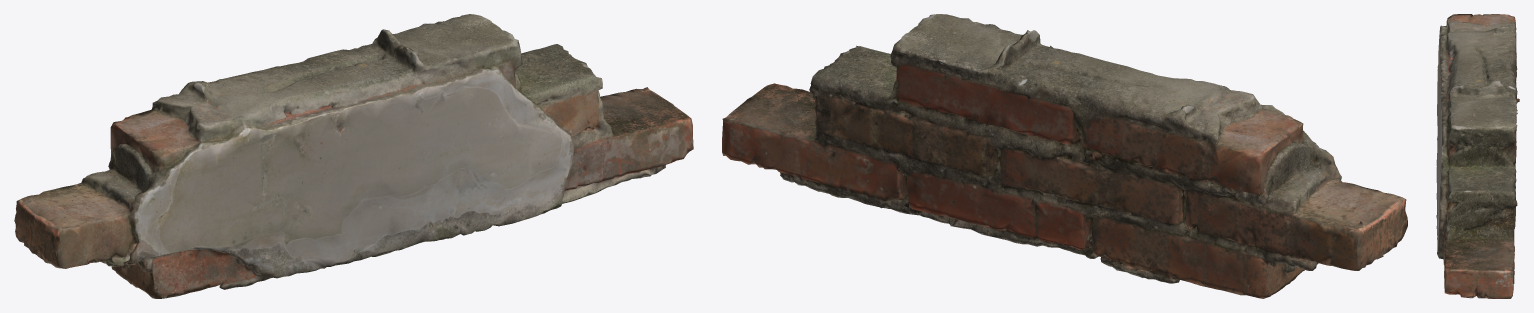
File: PX_Brick_Ruins_10_LOD2.fbx
3 views of the same model, side by side, from view 1: azimuth 30°, elevation 25°; view 2: azimuth 150°, elevation 25°; view 3: azimuth 270°, elevation 25° (orthographic). The views are drawn at different scales.
Visible parts, largest first — view 1: PX_Brick_Ruins_10_LOD2; view 2: PX_Brick_Ruins_10_LOD2; view 3: PX_Brick_Ruins_10_LOD2.
Boxes of the visible parts, bbox=[...] form: PX_Brick_Ruins_10_LOD2: bbox=[14, 14, 693, 298]; PX_Brick_Ruins_10_LOD2: bbox=[722, 14, 1407, 298]; PX_Brick_Ruins_10_LOD2: bbox=[1436, 14, 1519, 298].
Bounding box in the file's own units: 89.78 × 25.74 × 14.1.
